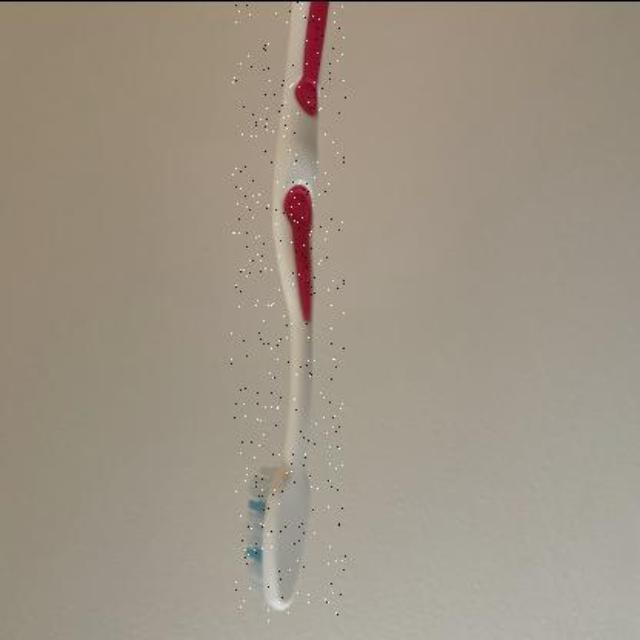toothbrush: (230, 0, 346, 620)
